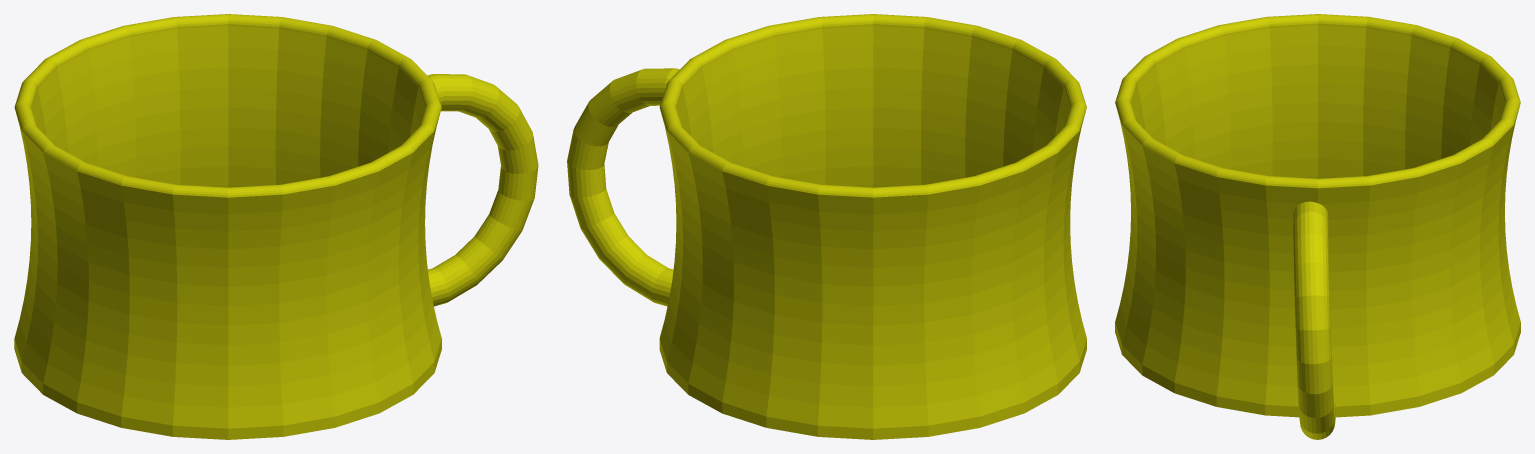
3 renders of one model, left to right at view 1: azimuth 30°, elevation 25°; view 2: azimuth 150°, elevation 25°; view 3: azimuth 270°, elevation 25°, orthographic. The views are drawn at different scales.
Parts seen in each view (by area): view 1: mesh2_mesh2-geometry, mesh1_mesh1-geometry; view 2: mesh2_mesh2-geometry, mesh1_mesh1-geometry; view 3: mesh2_mesh2-geometry, mesh1_mesh1-geometry.
Boxes of the visible parts, x1=… form: mesh2_mesh2-geometry: x1=14, y1=14, x2=441, y2=439; mesh1_mesh1-geometry: x1=427, y1=74, x2=538, y2=306; mesh2_mesh2-geometry: x1=659, y1=14, x2=1086, y2=439; mesh1_mesh1-geometry: x1=567, y1=68, x2=679, y2=306; mesh2_mesh2-geometry: x1=1115, y1=14, x2=1520, y2=417; mesh1_mesh1-geometry: x1=1293, y1=201, x2=1335, y2=439.
Size of the model in its own units: 0.7428 by 0.3668 by 0.5601.
